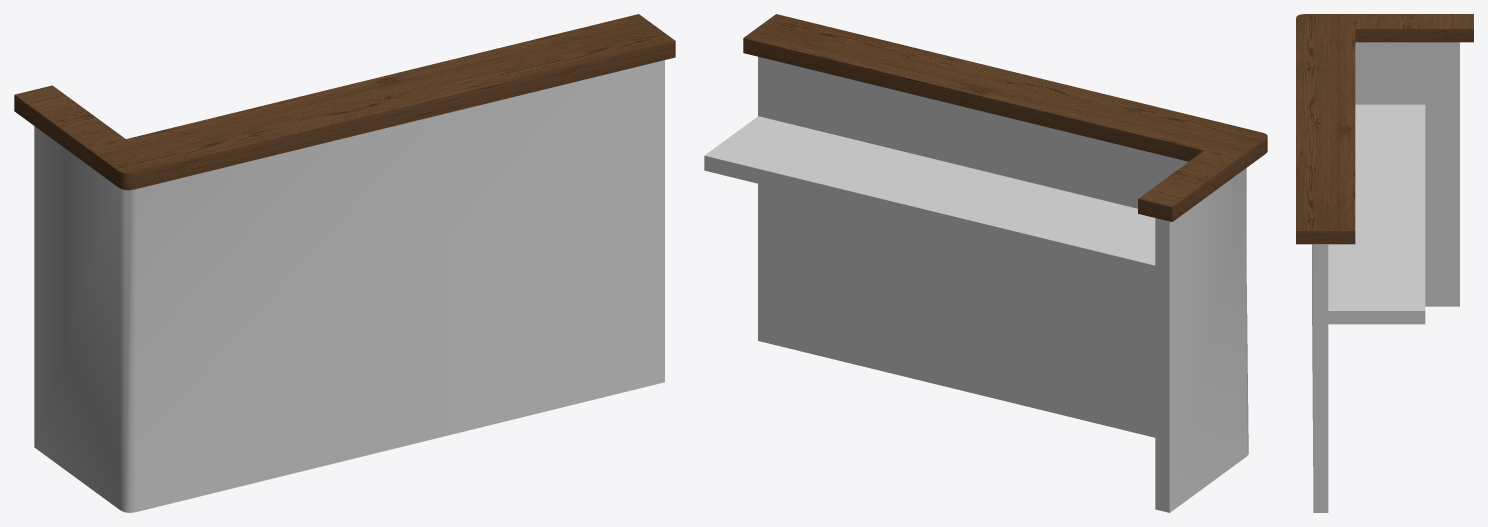
The model's file is reception.FBX.
The picture shows the model from 3 angles, left to right: view 1: azimuth 30°, elevation 25°; view 2: azimuth 150°, elevation 25°; view 3: azimuth 270°, elevation 25°; orthographic projection. The views are drawn at different scales.
Parts seen in each view (by area): view 1: Box001, Box004; view 2: Box001, Box004; view 3: Box001, Box004.
Part boxes in pixels (x1,y1,x2,y2): Box001: (34, 60, 664, 512); Box004: (14, 14, 675, 190); Box001: (704, 56, 1248, 512); Box004: (743, 14, 1267, 221); Box001: (1312, 42, 1459, 512); Box004: (1296, 14, 1473, 244).
Size of the model in its own units: 52.02 by 31.5 by 18.
2 materials, 1 textured.
